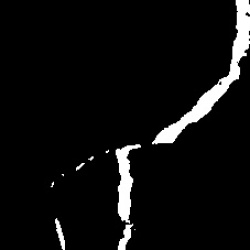crack: (115, 1, 249, 248), (55, 220, 67, 245)
pinhole: (77, 162, 86, 170), (47, 181, 58, 187), (88, 155, 92, 163), (106, 147, 109, 155)
